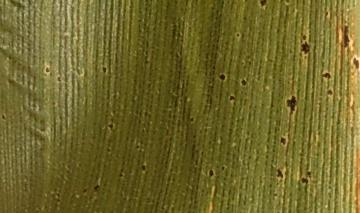tarspot: (336, 20, 352, 51), (283, 90, 299, 118), (297, 38, 314, 60), (214, 69, 230, 84), (297, 174, 312, 189), (271, 167, 288, 180), (254, 1, 274, 12), (350, 55, 360, 76), (275, 134, 291, 147), (238, 75, 251, 89), (204, 166, 217, 179), (138, 160, 150, 174), (97, 65, 112, 75), (320, 70, 333, 81), (41, 65, 54, 76), (324, 87, 335, 100), (79, 184, 90, 197), (92, 183, 105, 193), (307, 168, 317, 181), (226, 93, 238, 103), (1, 110, 10, 123), (186, 114, 197, 124), (298, 32, 309, 42), (105, 121, 117, 130), (233, 30, 243, 39)
